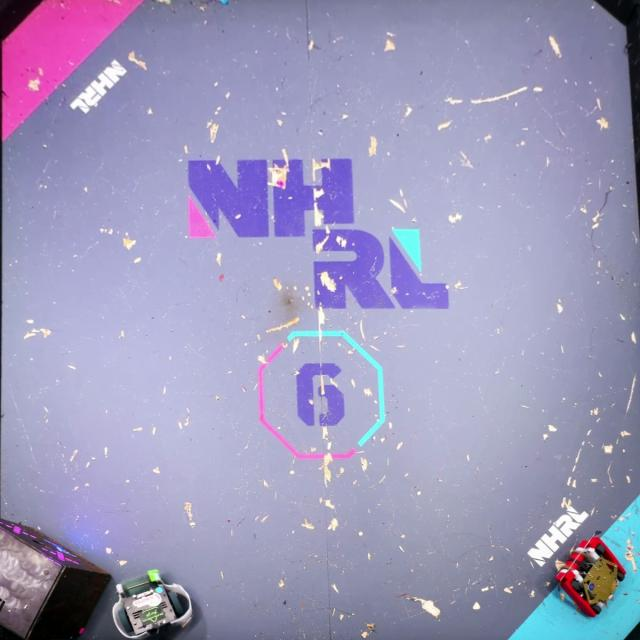housebot: (0, 514, 112, 640)
robot: (552, 532, 628, 618), (110, 566, 193, 640)
